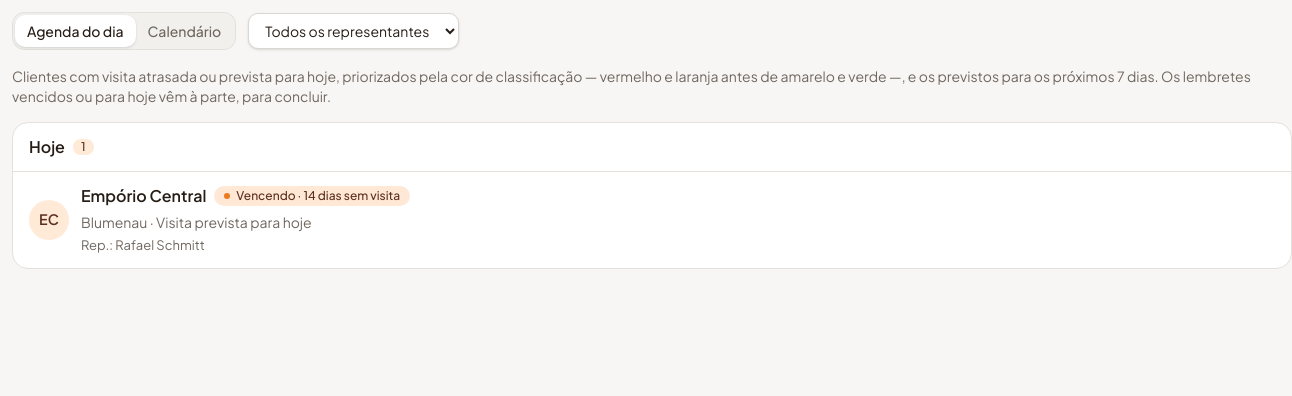
AgendaPage — roteiro do dia (spec 7.9) › o gestor só vê o roteiro depois de escolher um representante
This screenshot has width=1292, height=396.
Expected: the element named "Hoje · 1" is shown, [12,122,1291,268]
Expected: the element "Roteiro do dia" is not shown
Select "Eduarda Fischer" in the dropdown named "Filtrar por representante" at (354, 31), box [248,13,459,49]
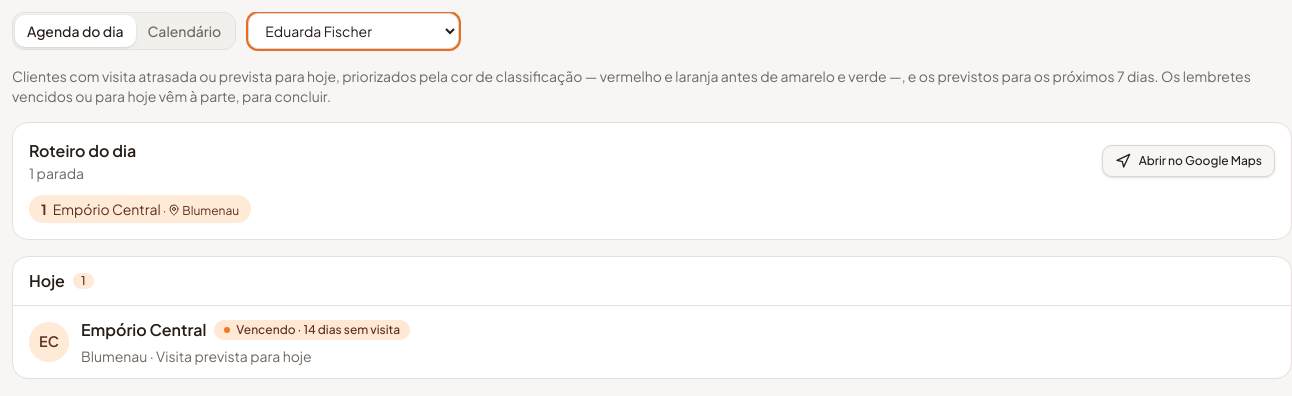
Result: the element "Roteiro do dia" is shown at [12,122,1291,240]
